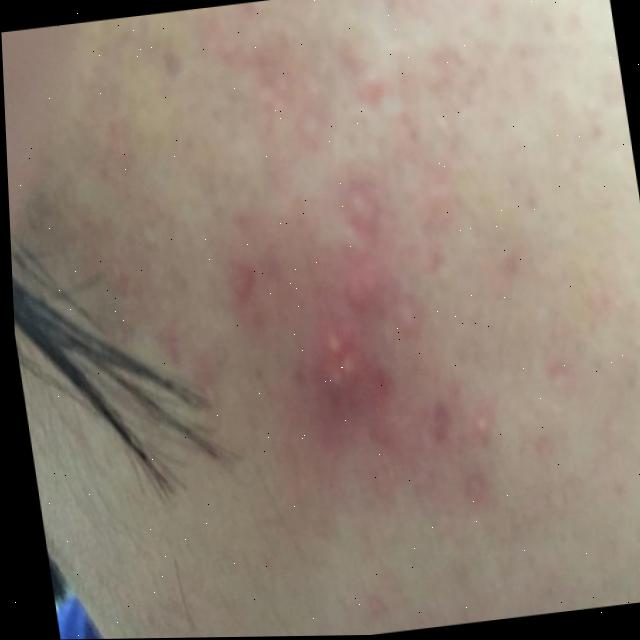Acne: (179, 0, 594, 469)
